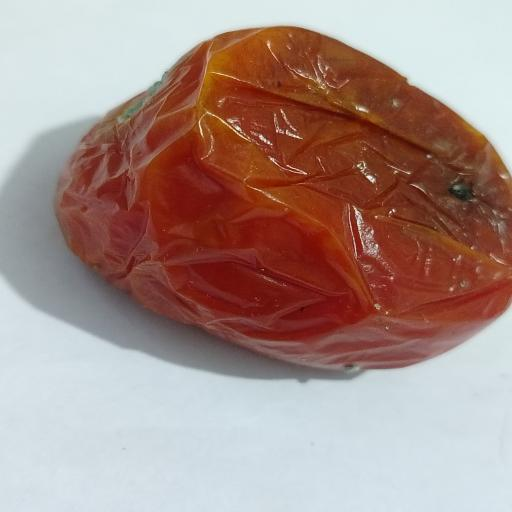spoiled: (56, 27, 512, 369)
